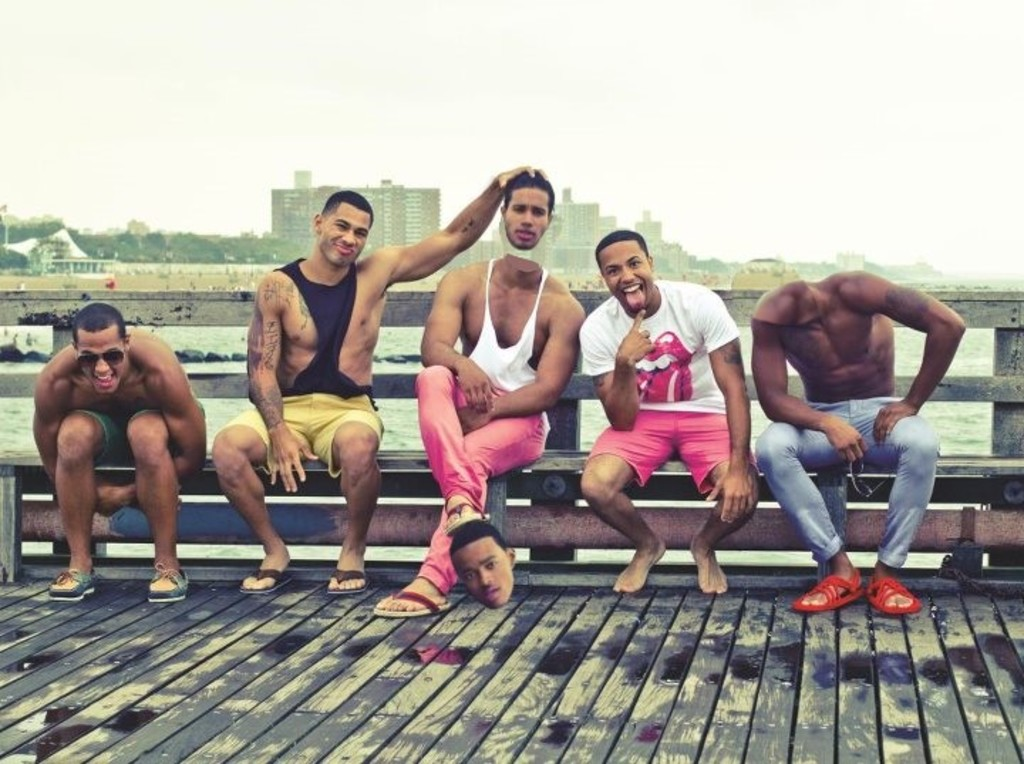Footwear: (786, 562, 868, 612), (371, 583, 447, 617), (863, 578, 920, 616), (142, 563, 189, 605), (444, 494, 492, 529), (323, 562, 371, 596), (47, 568, 95, 600), (233, 568, 290, 593)
